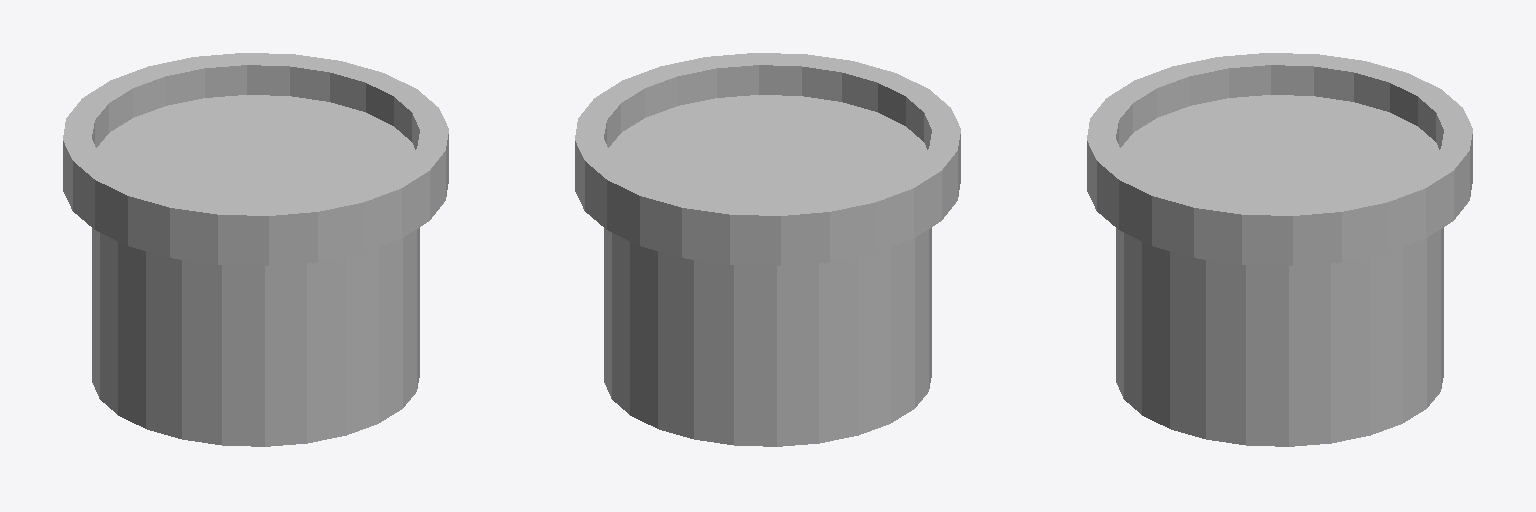
Rendered from TubeNew4.obj.
The picture shows the model from 3 angles: view 1: azimuth 30°, elevation 25°; view 2: azimuth 150°, elevation 25°; view 3: azimuth 270°, elevation 25°; orthographic projection.
Visible parts, largest first — view 1: Mario_Pipe; view 2: Mario_Pipe; view 3: Mario_Pipe.
Part boxes in pixels (x1,y1,x2,y2): Mario_Pipe: (63, 53, 448, 446); Mario_Pipe: (575, 53, 960, 446); Mario_Pipe: (1087, 53, 1472, 446).
Size of the model in its own units: 2.04 by 1.42 by 2.04.